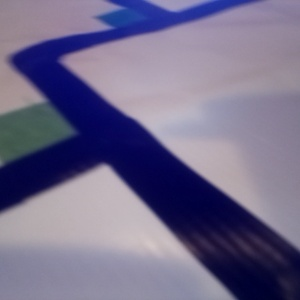top_right: (143, 26, 220, 58)
